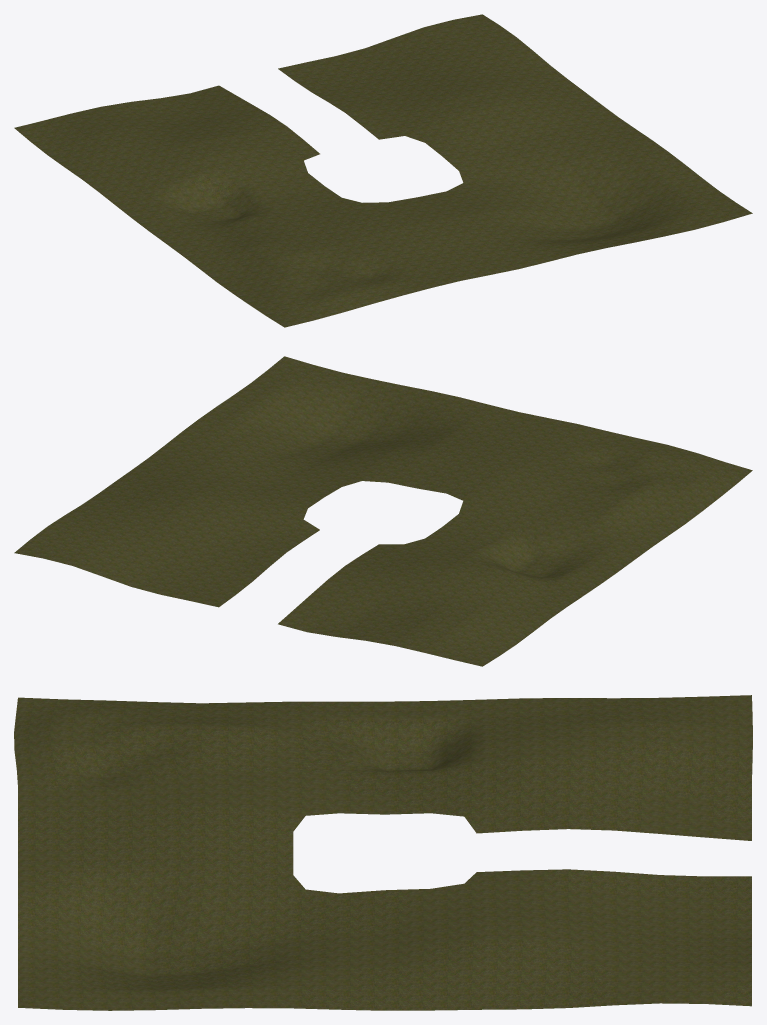
Rendered from grass.obj.
The picture shows the model from 3 angles, top to bottom: view 1: azimuth 30°, elevation 25°; view 2: azimuth 150°, elevation 25°; view 3: azimuth 270°, elevation 25°; orthographic projection. The views are drawn at different scales.
Parts seen in each view (by area): view 1: grass_Plane.004; view 2: grass_Plane.004; view 3: grass_Plane.004.
Part boxes in pixels (x1,y1,x2,y2): grass_Plane.004: (14,14,752,327); grass_Plane.004: (14,356,752,666); grass_Plane.004: (14,695,752,1010).
Bounding box in the file's own units: 64.87 × 4.09 × 65.25.
Materials: 1 (1 with a texture image).
